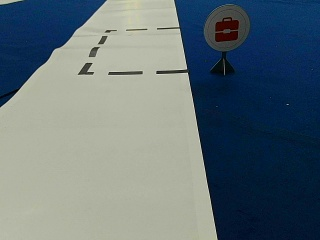company: (204, 4, 250, 50)
